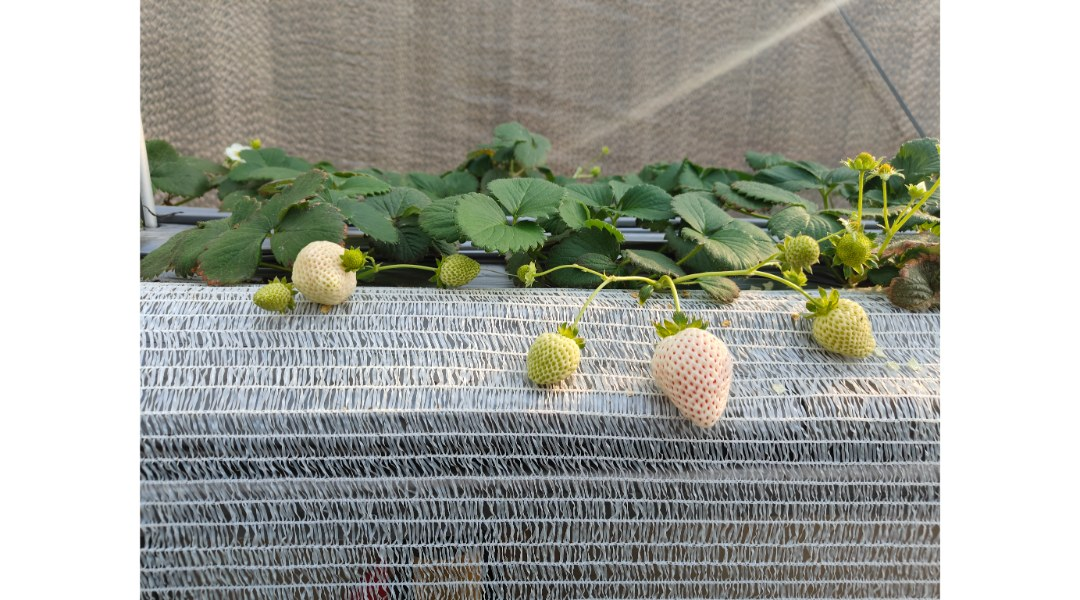berry: (646, 308, 734, 431), (284, 237, 361, 312), (809, 288, 879, 363), (527, 320, 584, 391), (429, 243, 482, 288), (777, 232, 823, 275), (833, 227, 870, 273), (254, 282, 295, 312), (842, 149, 875, 171), (873, 161, 906, 178), (341, 248, 363, 272), (520, 260, 541, 285)
flower: (911, 181, 926, 199)
strain: (572, 283, 605, 328), (545, 258, 599, 275), (675, 270, 744, 281), (372, 262, 436, 273), (758, 270, 791, 290), (614, 270, 646, 283)
